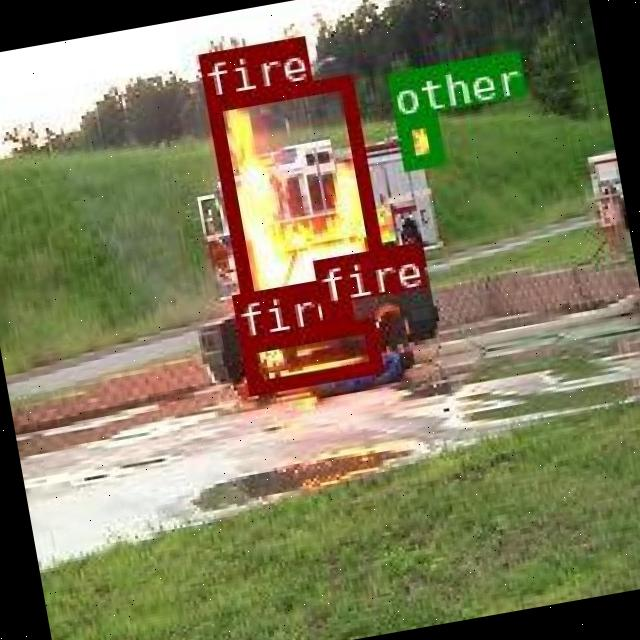fire: (203, 72, 384, 304), (238, 316, 380, 392), (319, 298, 350, 324)
